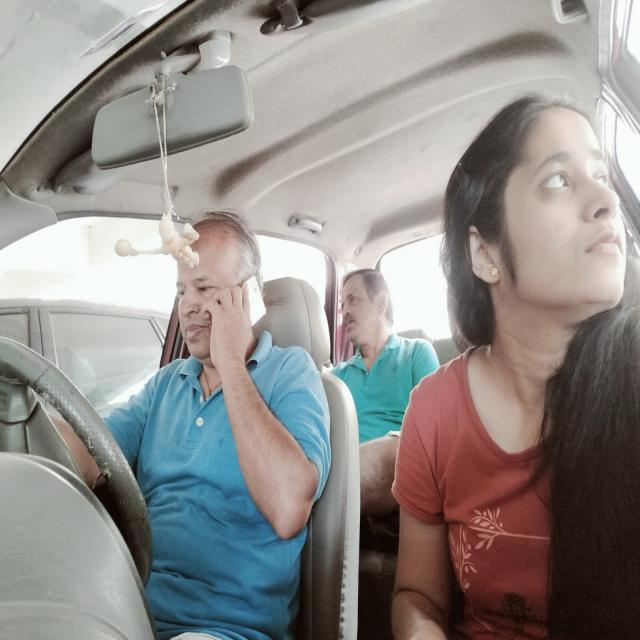mobile: (227, 277, 269, 336)
person: (440, 75, 635, 366), (172, 205, 271, 391), (334, 263, 394, 372)
